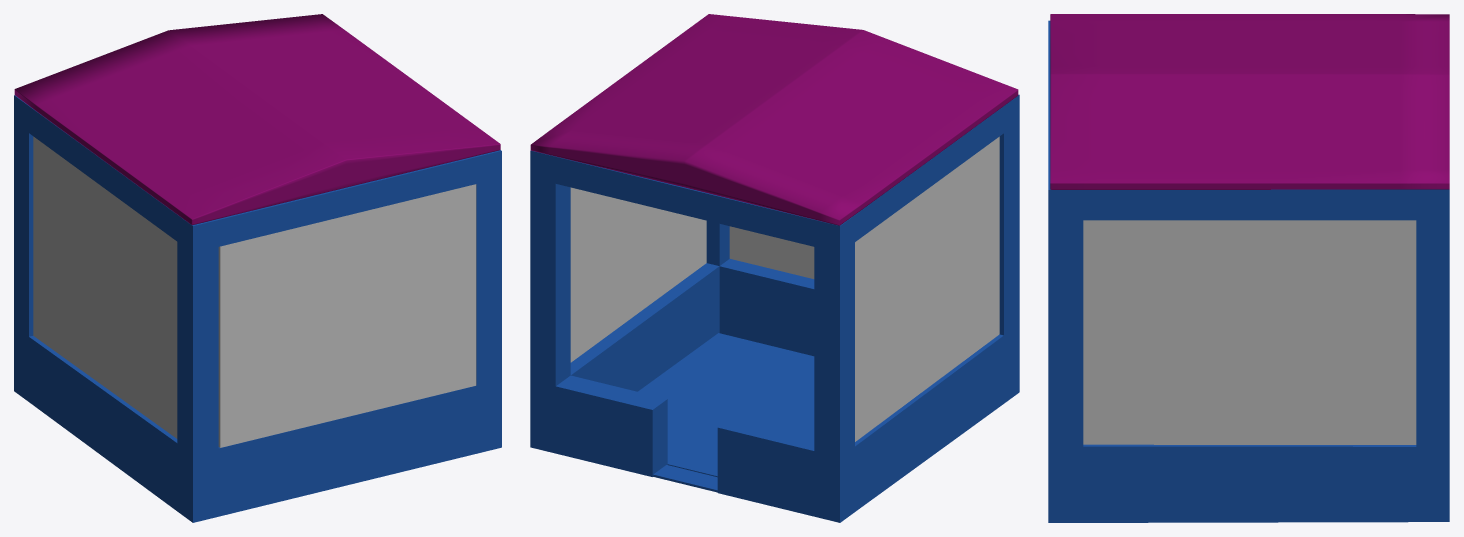
The model's file is junicube_quads.obj.
3 renders of one model, left to right at view 1: azimuth 30°, elevation 25°; view 2: azimuth 150°, elevation 25°; view 3: azimuth 270°, elevation 25°, orthographic. The views are drawn at different scales.
Visible parts, largest first — view 1: Box004, Box005, screens_003, screens_01; view 2: Box004, Box005, screens_01, screens_002, screens_003; view 3: screens_002, Box005, Box004.
Part boxes in pixels (x1,y1,x2,y2): Box004: (14, 95, 501, 522); Box005: (14, 14, 500, 225); screens_003: (218, 184, 476, 447); screens_01: (33, 136, 177, 438); Box004: (530, 94, 1019, 522); Box005: (530, 14, 1018, 225); screens_01: (855, 136, 999, 441); screens_002: (570, 187, 706, 362); screens_003: (729, 226, 814, 278); screens_002: (1083, 220, 1416, 444); Box005: (1050, 14, 1449, 189); Box004: (1048, 20, 1449, 522).
Bounding box in the file's own units: 480 × 482 × 482.
